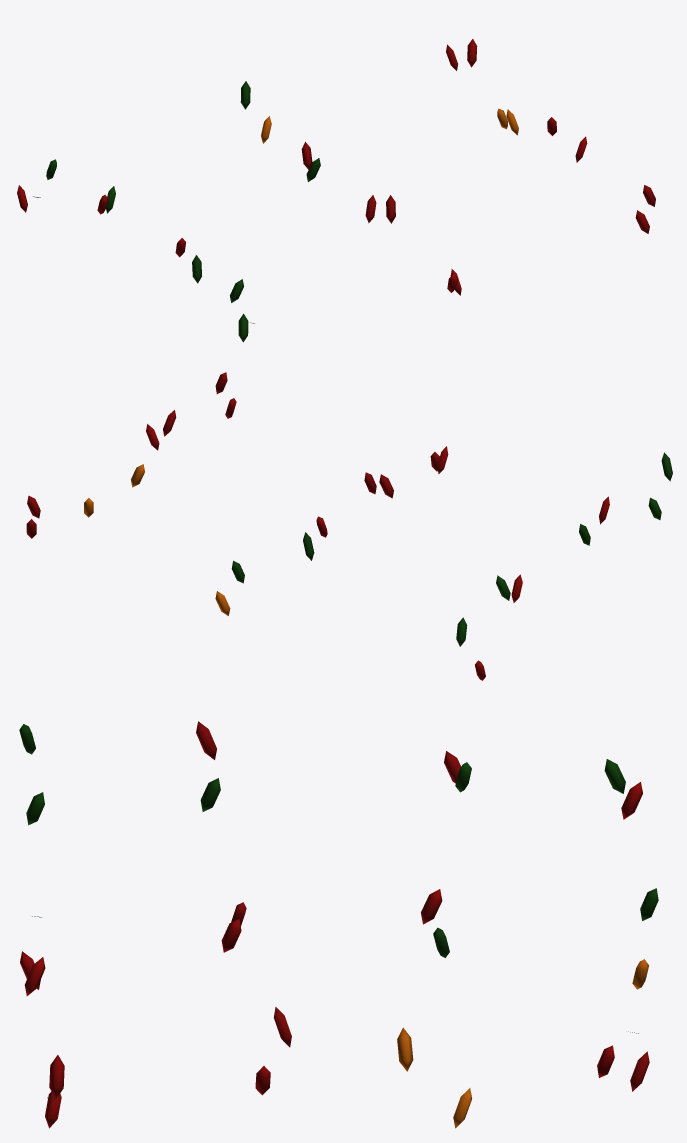
Rendered from fm_pepper_3_lod1.glb.
The picture shows the model from 3 angles, top to bottom: view 1: azimuth 30°, elevation 25°; view 2: azimuth 150°, elevation 25°; view 3: azimuth 270°, elevation 25°; orthographic projection. The views are drawn at different scales.
Visible parts, largest first — view 1: fm_pepper_3_lod1; view 2: fm_pepper_3_lod1; view 3: fm_pepper_3_lod1.
Part boxes in pixels (x1,y1,x2,y2): fm_pepper_3_lod1: [17, 39, 655, 342]; fm_pepper_3_lod1: [26, 372, 672, 680]; fm_pepper_3_lod1: [19, 721, 658, 1128].
Bounding box in the file's own units: 3.09 × 0.5656 × 2.48.
